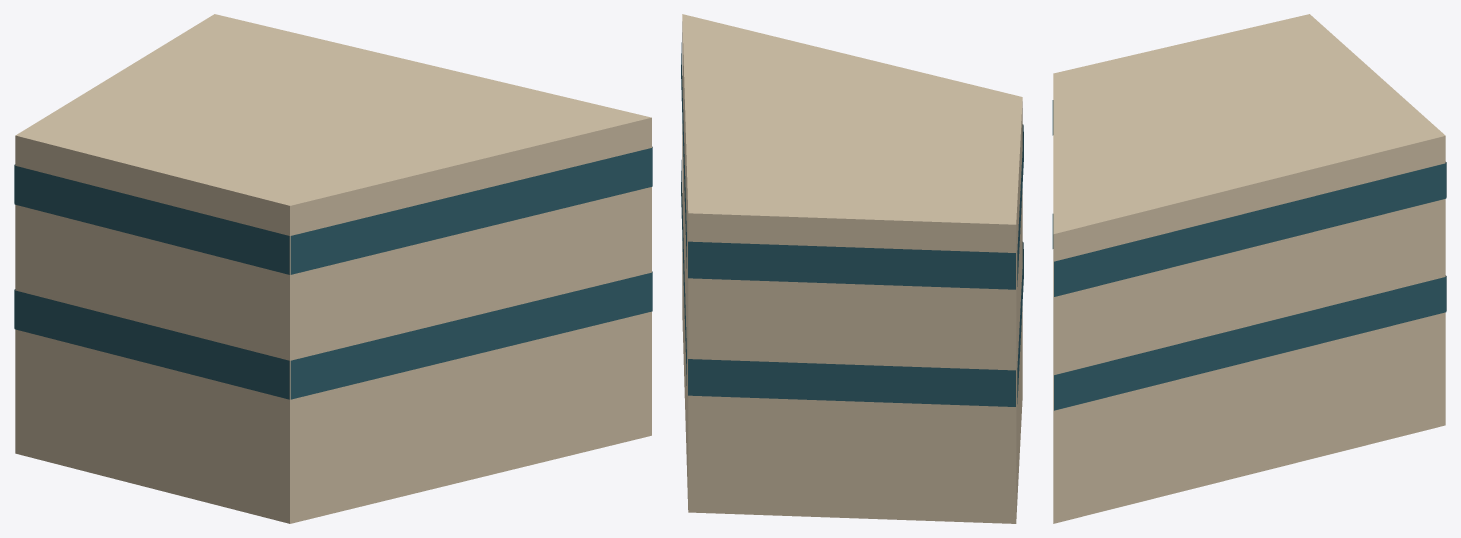
The model's file is city_-4_-8.glb.
3 renders of one model, left to right at view 1: azimuth 30°, elevation 25°; view 2: azimuth 150°, elevation 25°; view 3: azimuth 270°, elevation 25°, orthographic. The views are drawn at different scales.
Visible parts, largest first — view 1: city_-4_-8; view 2: city_-4_-8; view 3: city_-4_-8.
Boxes of the visible parts, bbox=[...] form: city_-4_-8: bbox=[14, 14, 652, 523]; city_-4_-8: bbox=[681, 14, 1023, 523]; city_-4_-8: bbox=[1052, 14, 1446, 523].
Bounding box in the file's own units: 16.7 × 10.2 × 12.59.
